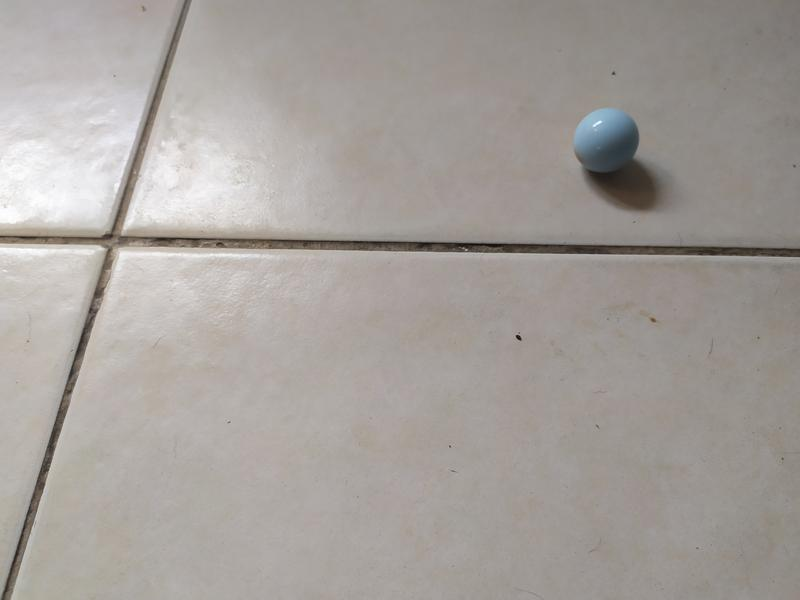Warning: (569, 106, 643, 175)
